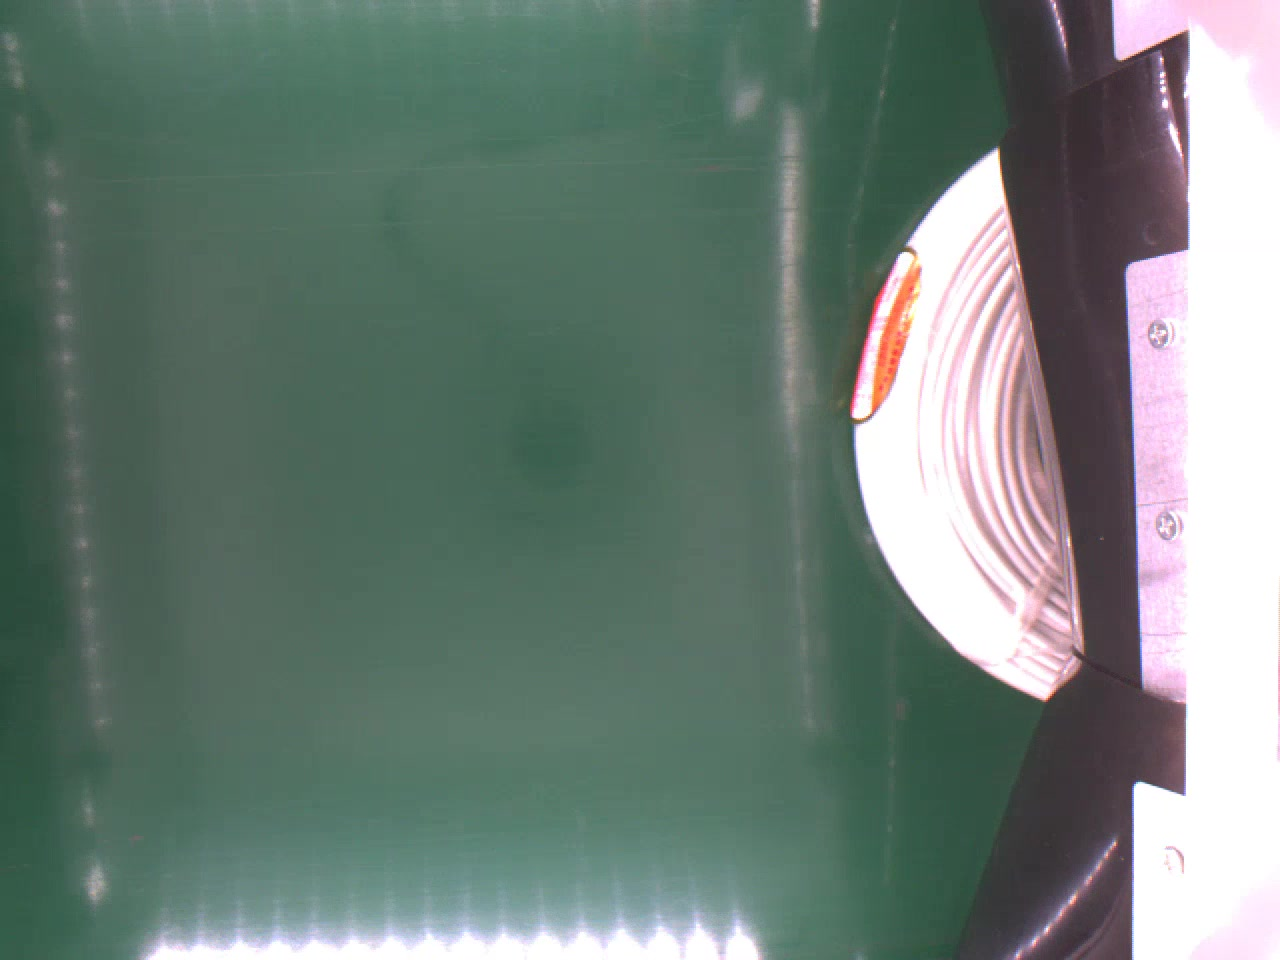white: (844, 135, 1081, 703)
